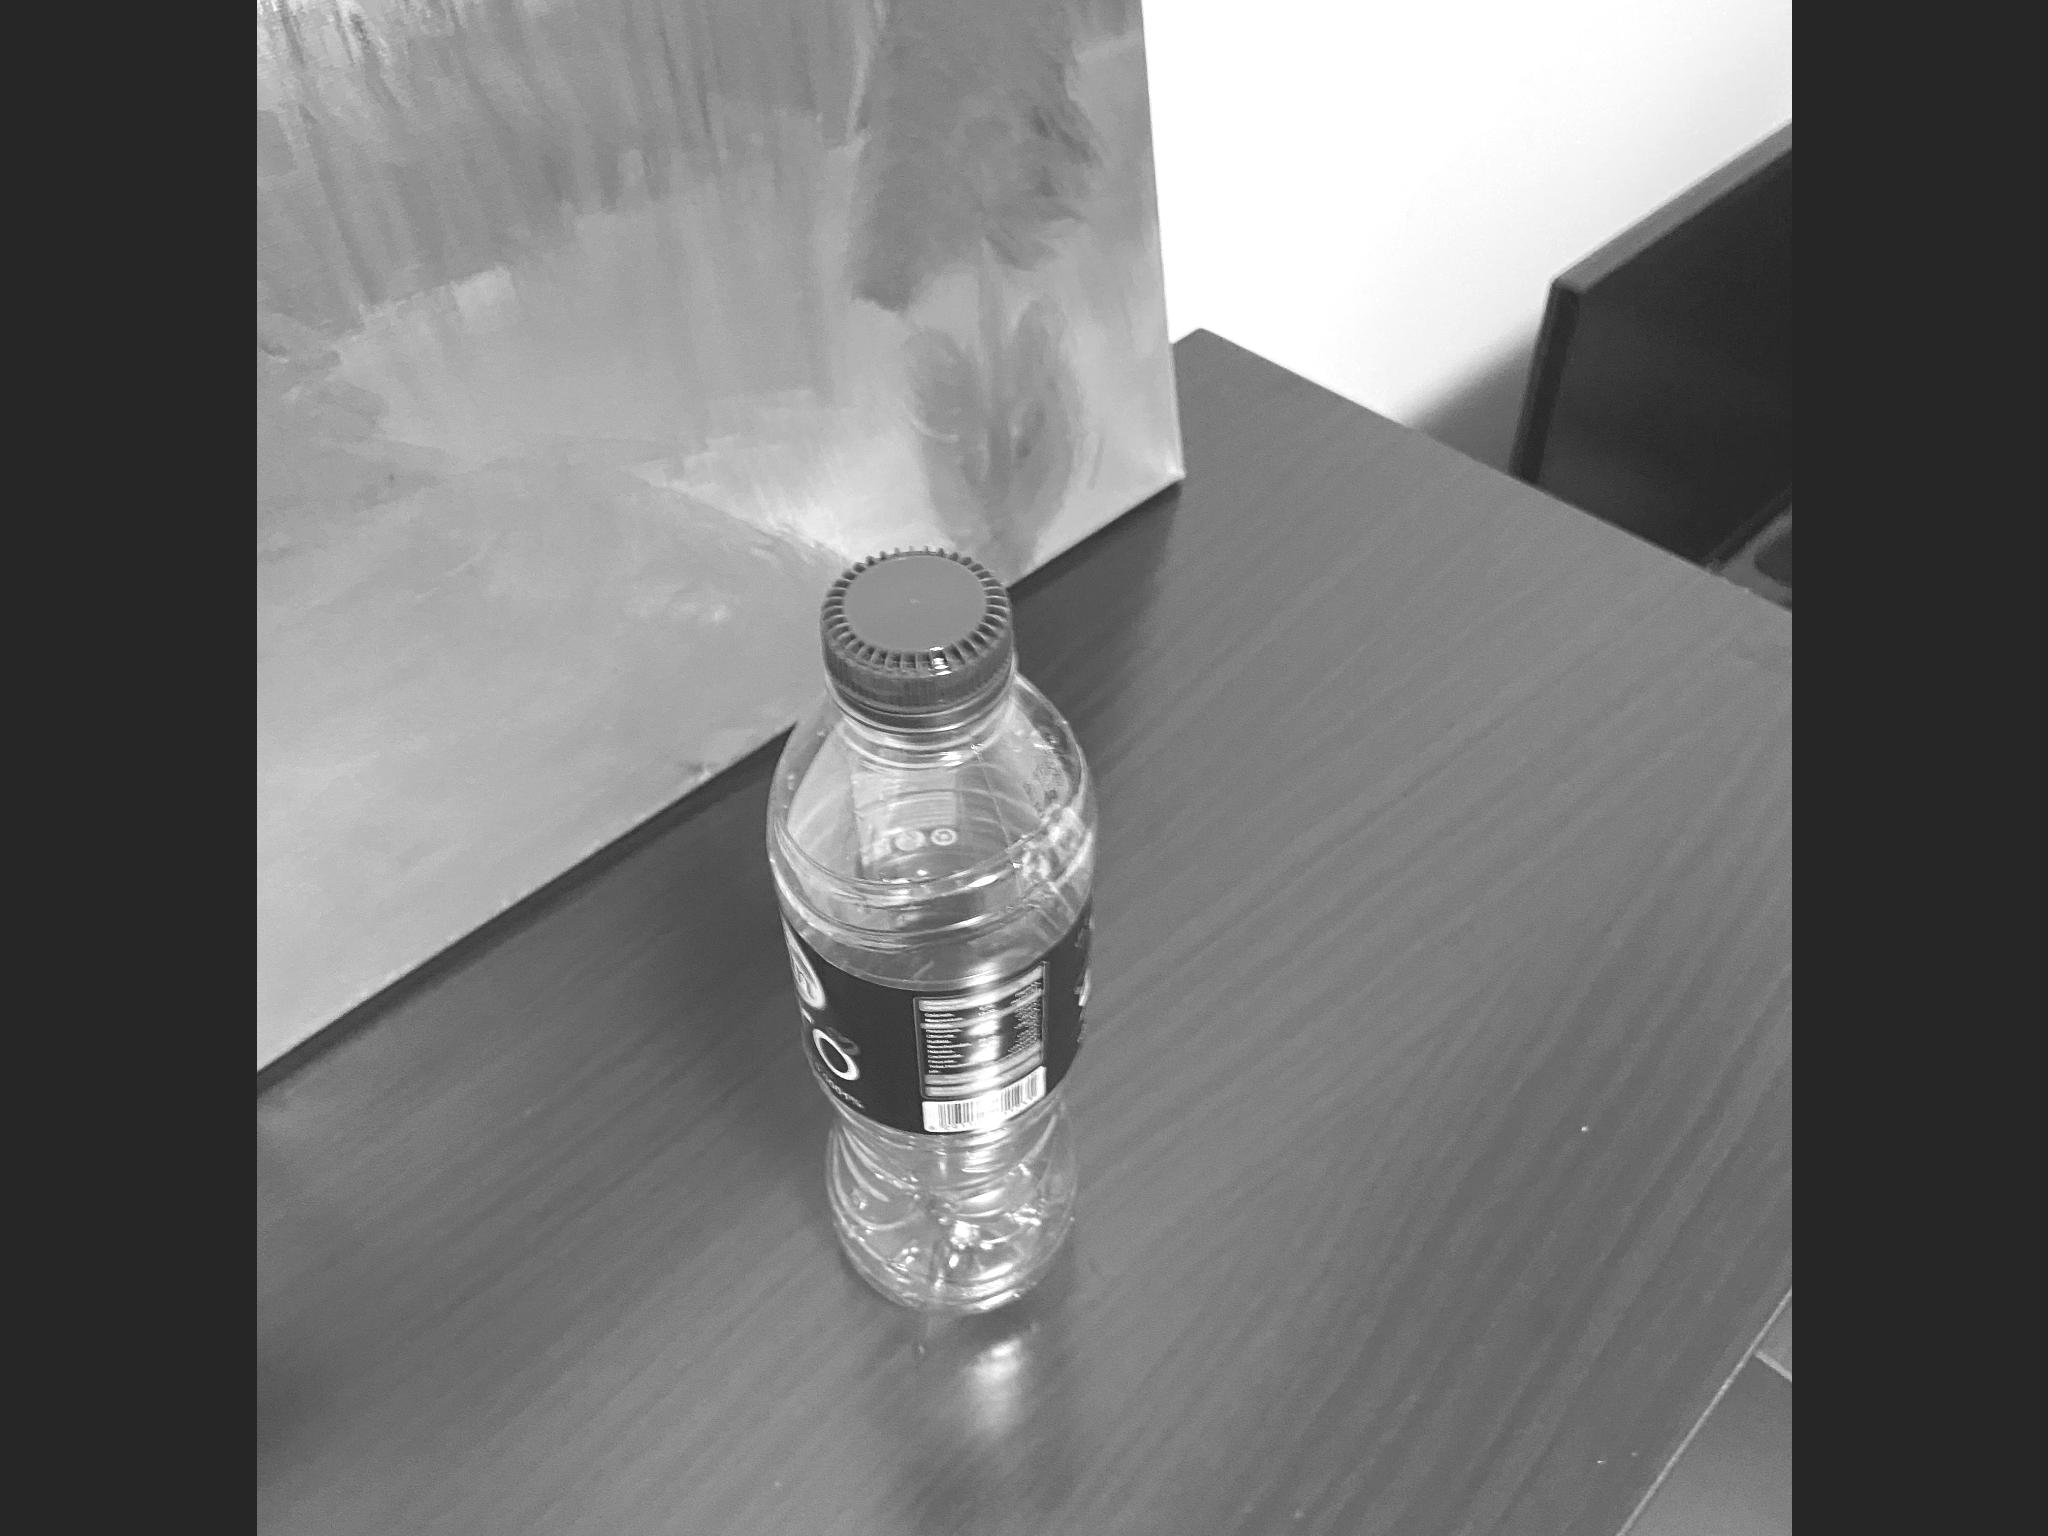bottle: (734, 508, 1138, 1321)
